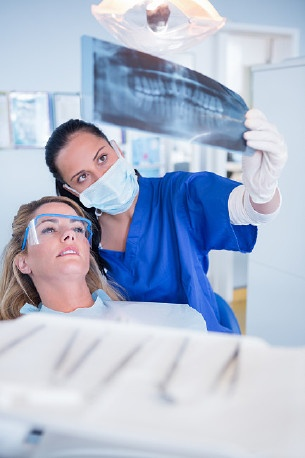Mask: (76, 147, 141, 212)
